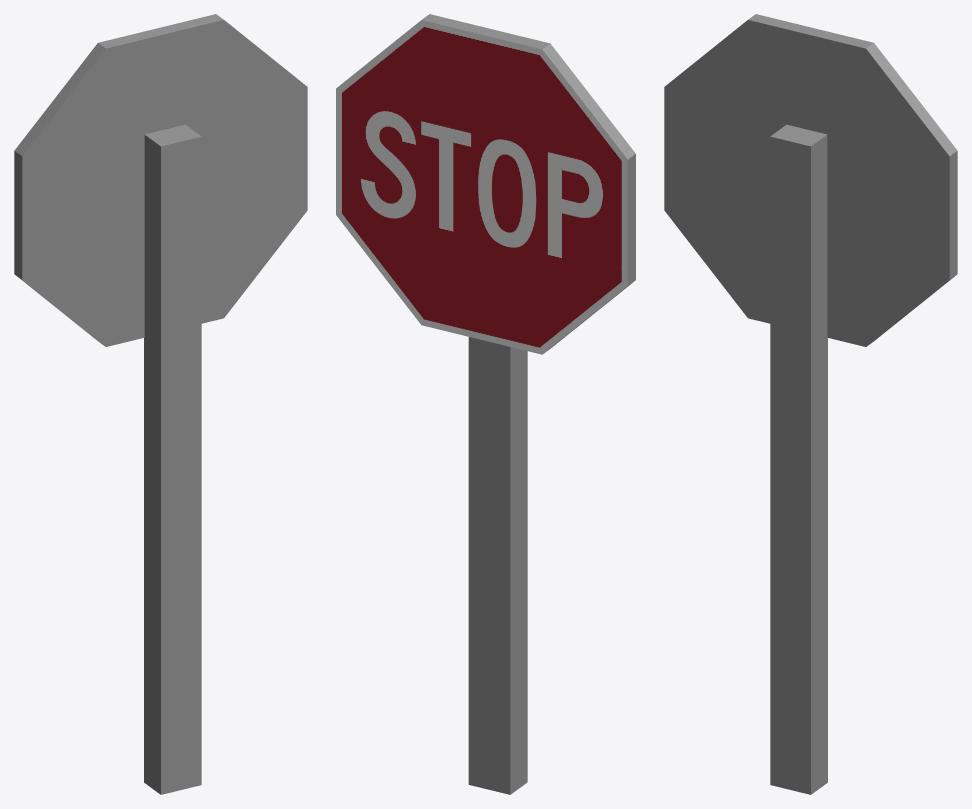
Rendered from Stop_Sign.fbx.
The picture shows the model from 3 angles, left to right: view 1: azimuth 30°, elevation 25°; view 2: azimuth 150°, elevation 25°; view 3: azimuth 330°, elevation 25°; orthographic projection. The views are drawn at different scales.
Visible parts, largest first — view 1: Stop Sign; view 2: Stop Sign; view 3: Stop Sign.
Part boxes in pixels (box(x1,y1,x2,y2)): Stop Sign: box(14, 14, 307, 794); Stop Sign: box(336, 14, 635, 794); Stop Sign: box(664, 14, 957, 794).
Size of the model in its own units: 299 by 745 by 44.24.
Materials: 2 (1 with a texture image).
